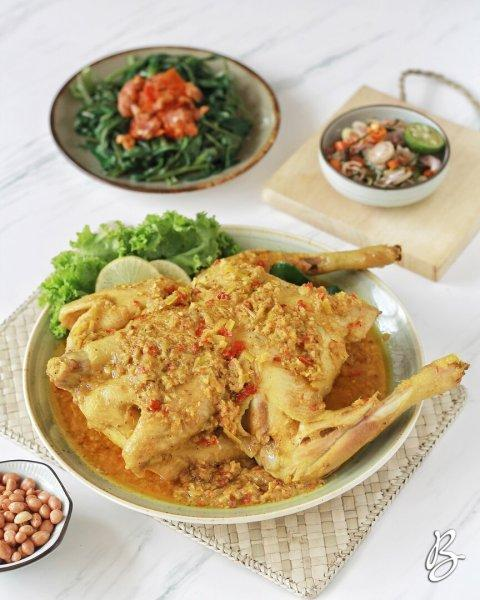ayam_betutu: (44, 246, 467, 485)
